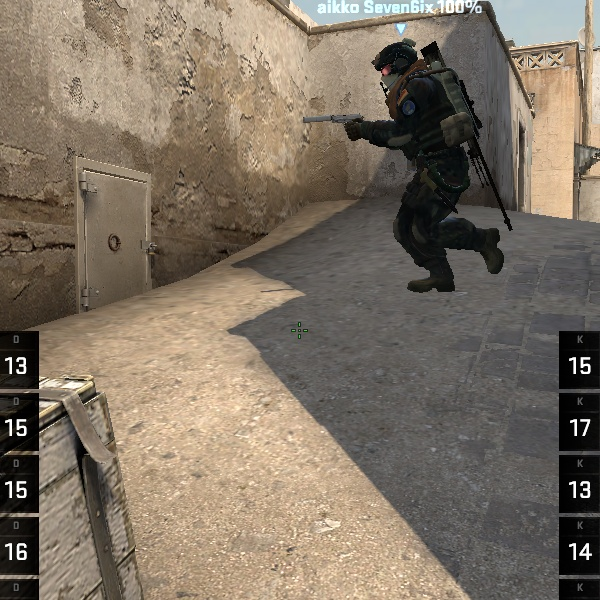ct_body: (344, 27, 501, 309)
ct_head: (368, 35, 430, 95)
